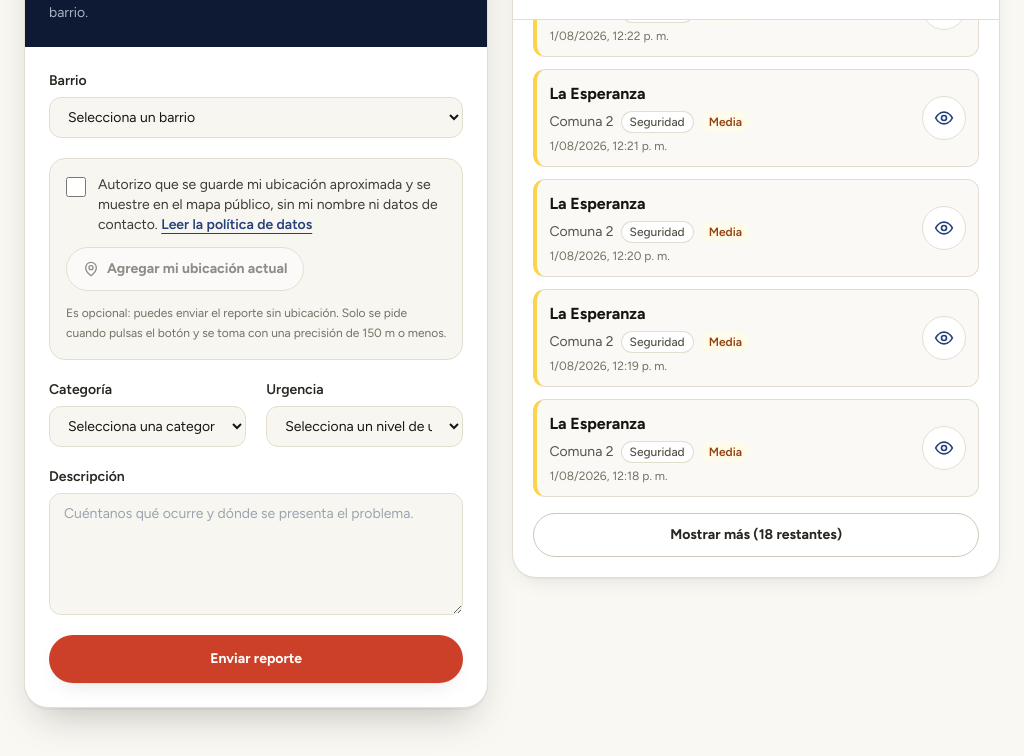
Scenario: EncuestaPage with many reports › renders the list in steps so it does not overflow, and reveals more on demand
(page scrolled)
What coordinates should you click on to do the following:
click the button "Mostrar más (18 restantes)"
I would click on:
 (756, 535)
Its box is 533,513 -> 979,557.
(page scrolled)
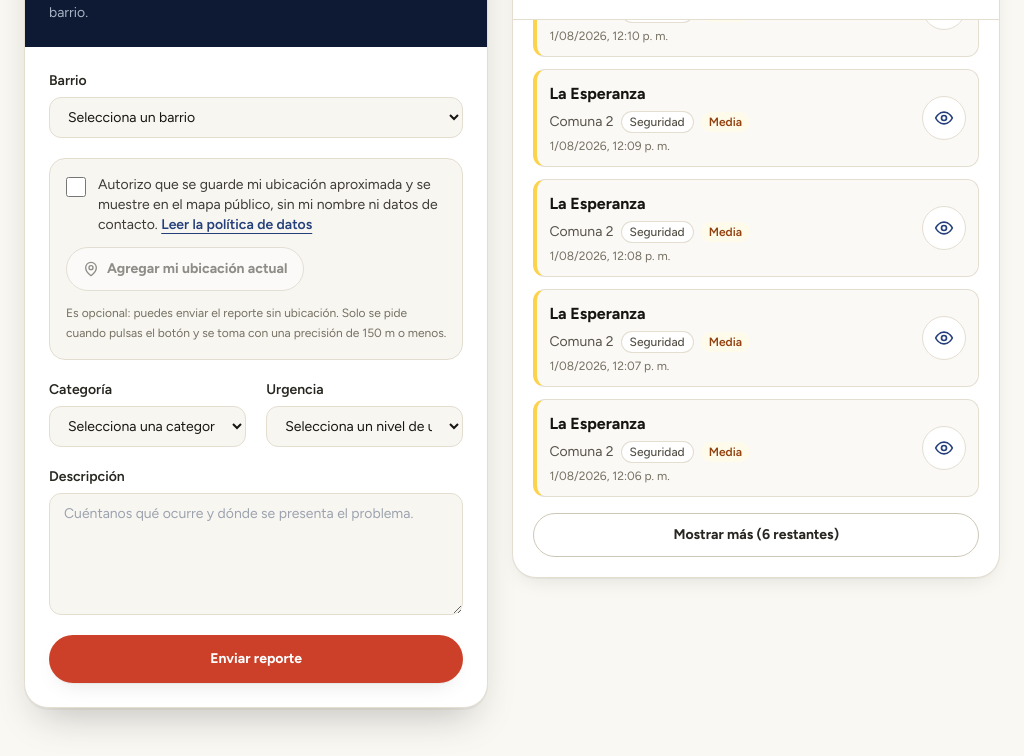
What coordinates should you click on to do the following:
click the button "Mostrar más (6 restantes)"
I would click on:
 (756, 535)
Its box is 533,513 -> 979,557.
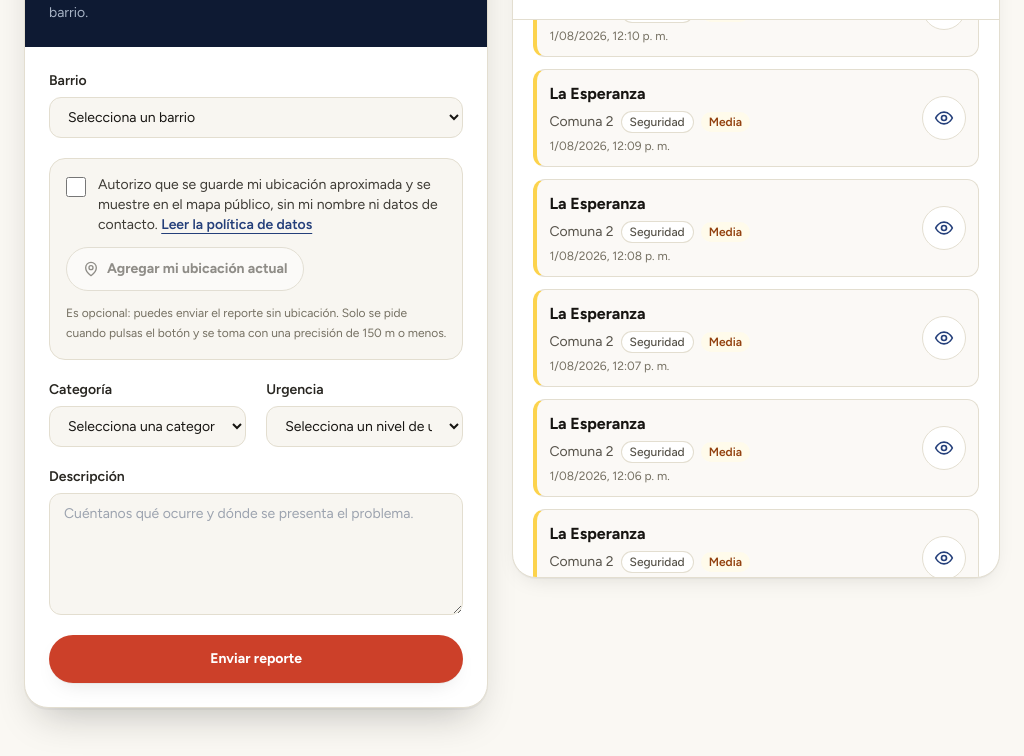
Now the button "Mostrar más" is gone
